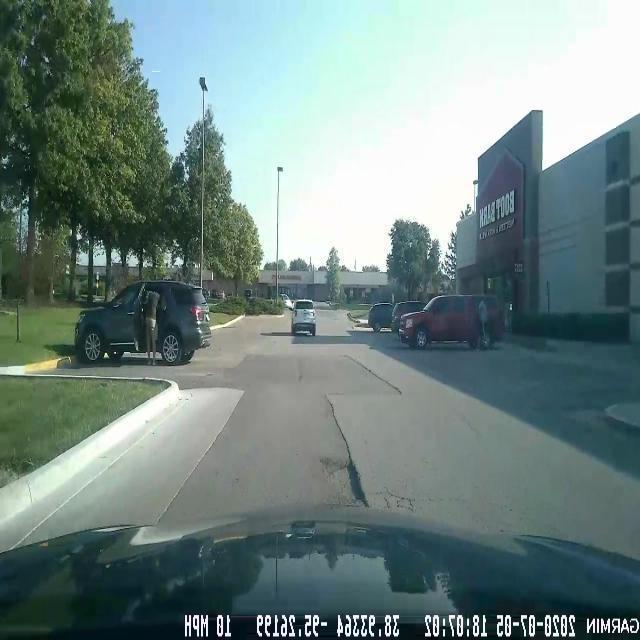pothole: (342, 455, 372, 509)
